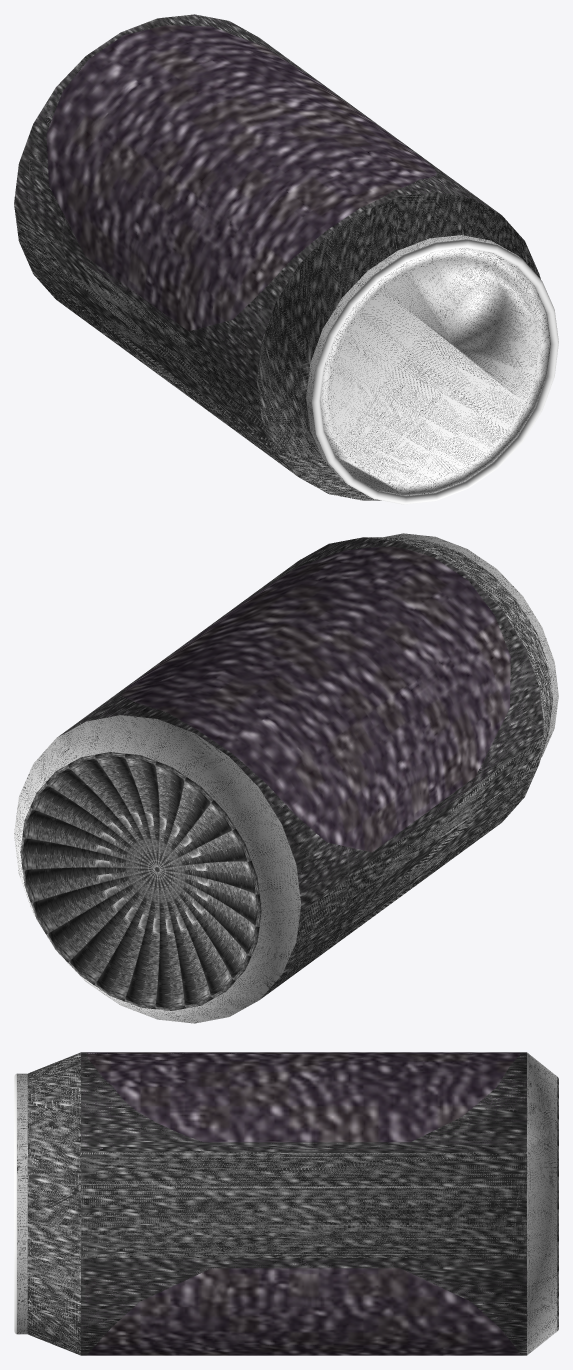
Rendered from model_align.obj.
The picture shows the model from 3 angles, top to bottom: view 1: azimuth 30°, elevation 25°; view 2: azimuth 150°, elevation 25°; view 3: azimuth 270°, elevation 25°; orthographic projection. The views are drawn at different scales.
Visible parts, largest first — view 1: mesh1_mesh1-geometry; view 2: mesh1_mesh1-geometry; view 3: mesh1_mesh1-geometry.
Part boxes in pixels (bbox=[...]): mesh1_mesh1-geometry: bbox=[14, 14, 558, 504]; mesh1_mesh1-geometry: bbox=[14, 533, 558, 1023]; mesh1_mesh1-geometry: bbox=[14, 1052, 558, 1355].
Bounding box in the file's own units: 0.0553 × 0.0553 × 0.0989.
